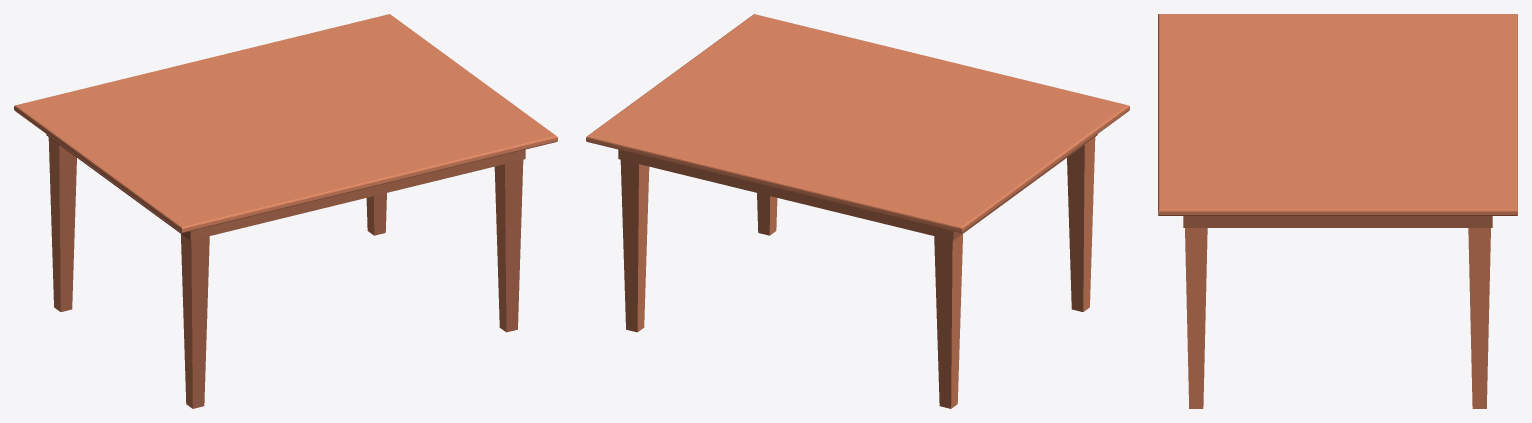
The model's file is dinning table.fbx.
3 renders of one model, left to right at view 1: azimuth 30°, elevation 25°; view 2: azimuth 150°, elevation 25°; view 3: azimuth 270°, elevation 25°, orthographic. The views are drawn at different scales.
Visible parts, largest first — view 1: Cube; view 2: Cube; view 3: Cube.
Part boxes in pixels (x1,y1,x2,y2): Cube: [14, 14, 557, 408]; Cube: [586, 14, 1129, 408]; Cube: [1158, 14, 1517, 408].
Size of the model in its own units: 597 by 300 by 461.
